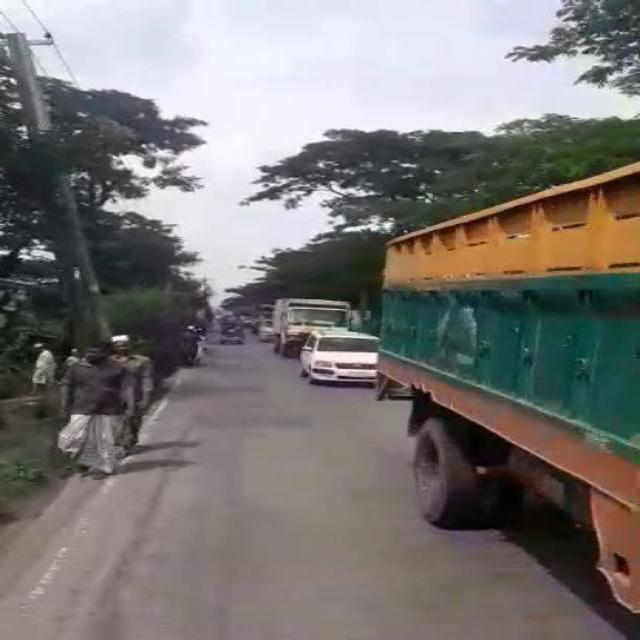car: (296, 329, 381, 385)
truck: (374, 160, 635, 608), (268, 296, 344, 350)
